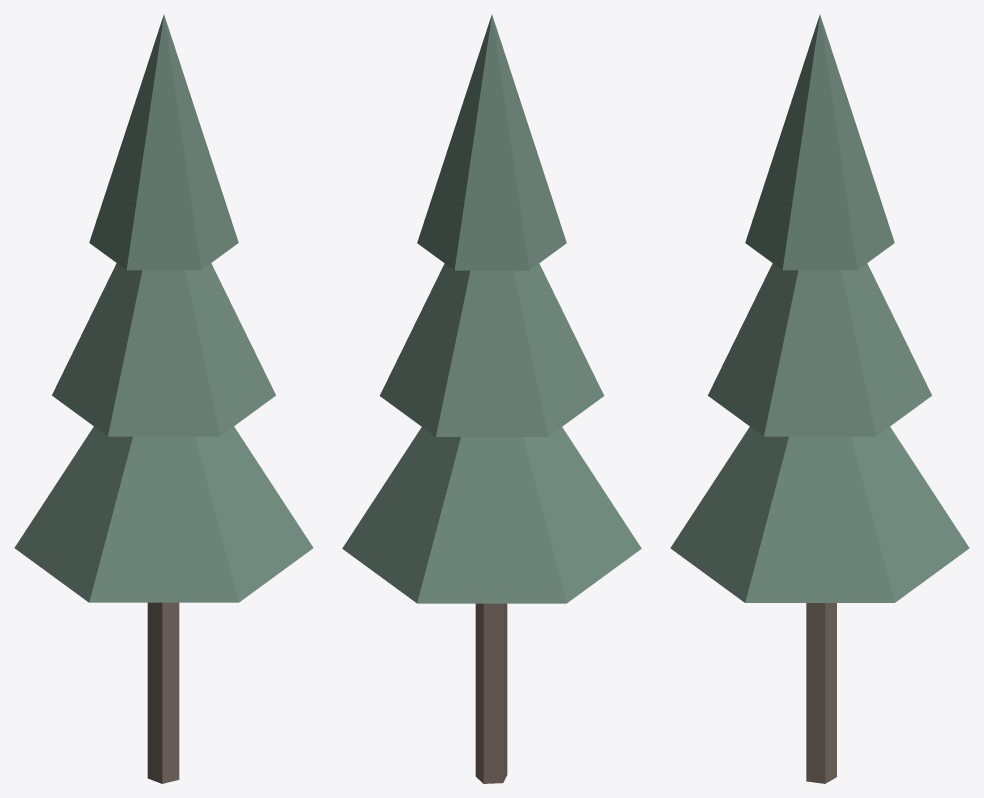
Rendered from larch.glb.
3 renders of one model, left to right at view 1: azimuth 30°, elevation 25°; view 2: azimuth 150°, elevation 25°; view 3: azimuth 270°, elevation 25°, orthographic.
Parts seen in each view (by area): view 1: Larch; view 2: Larch; view 3: Larch.
Boxes of the visible parts, box(x1,y1,x2,y2) form: Larch: box(14, 15, 313, 783); Larch: box(342, 15, 641, 783); Larch: box(670, 15, 969, 783).
Size of the model in its own units: 2.77 by 9 by 3.2.
